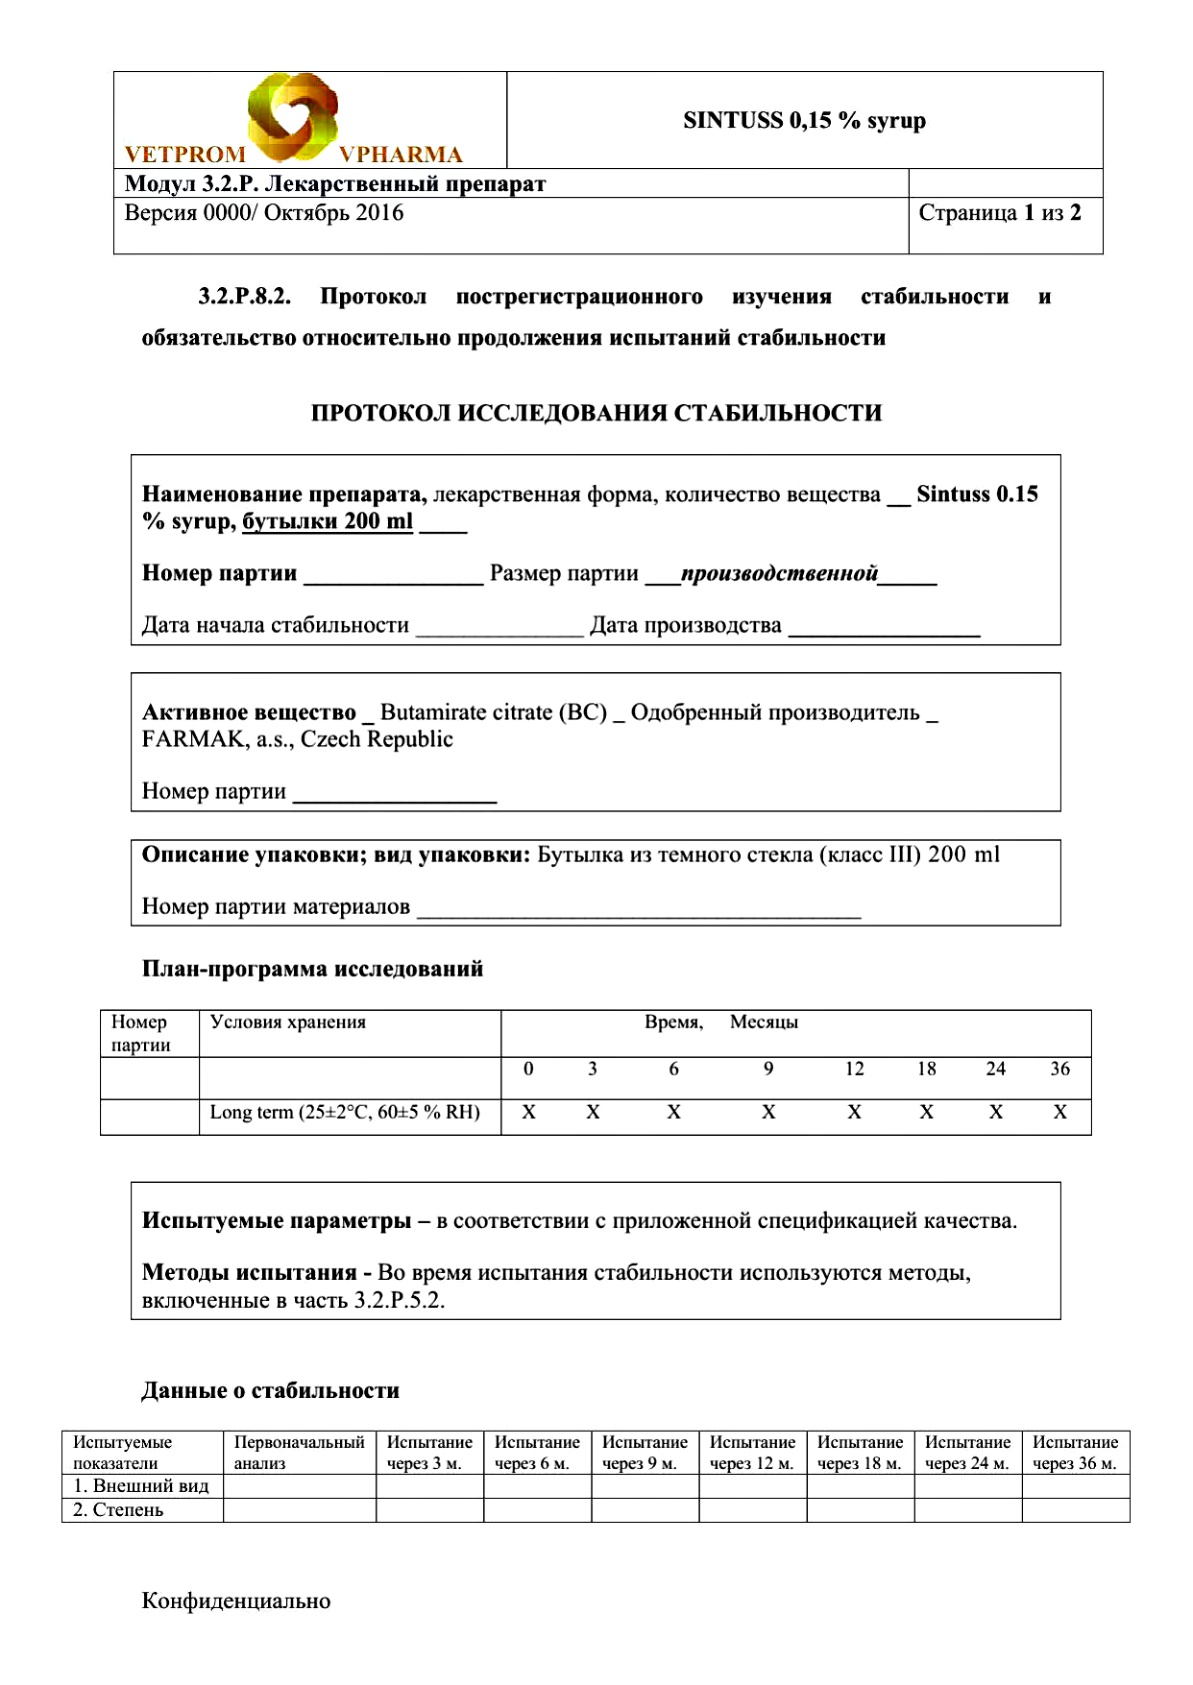full_lined: (99, 1008, 1092, 1138), (59, 1431, 1131, 1524)
merged_cells: (114, 70, 1104, 254)
